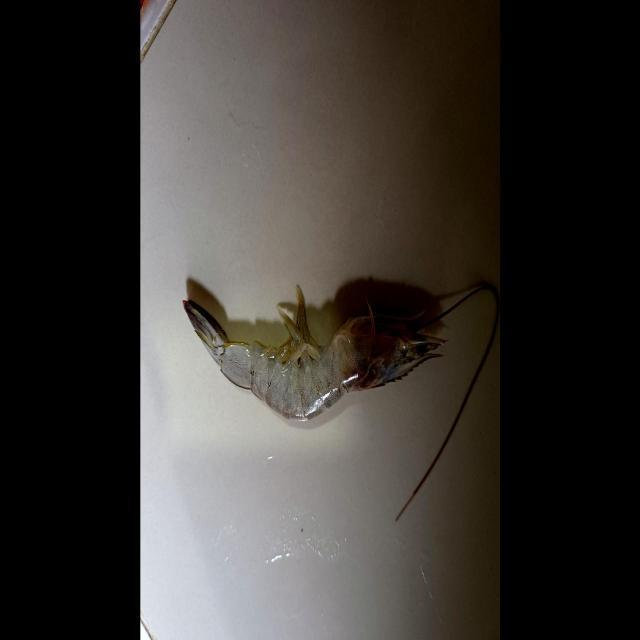shrimp: (184, 288, 443, 420)
